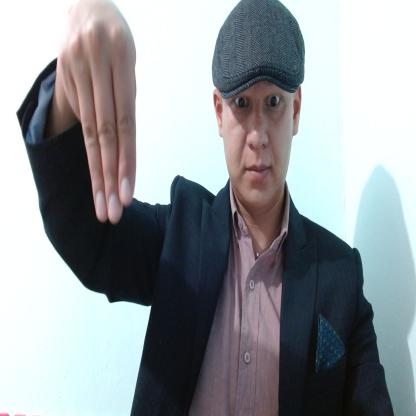M: (58, 0, 135, 223)
